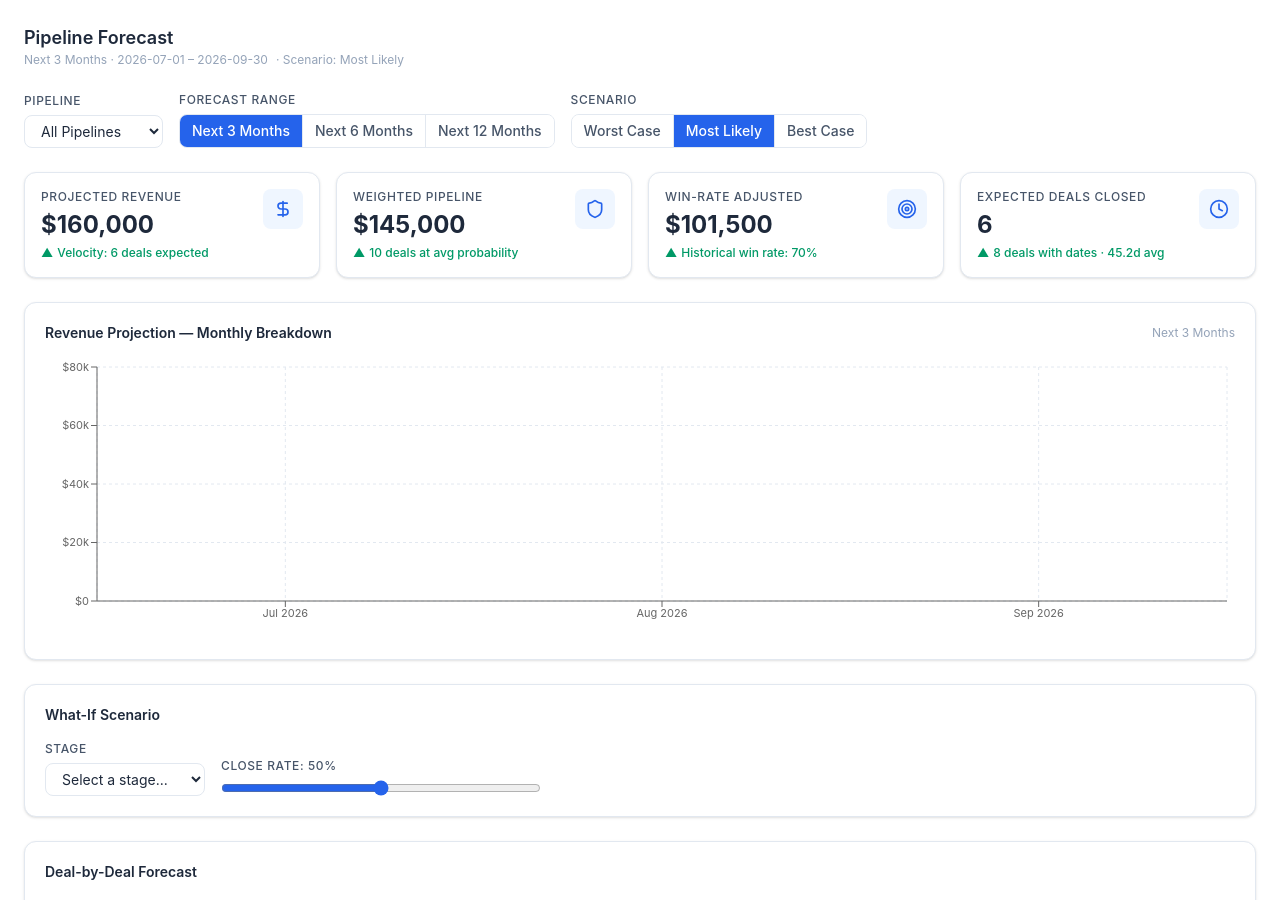
Scenario: ForecastPage what-if slider › shows what-if results when stage is selected and what_if data is provided
This screenshot has width=1280, height=900.
Select "Negotiation" in the dropdown showing "Select a stage..." next to "Close Rate:": (125, 780) [45,763,205,796]
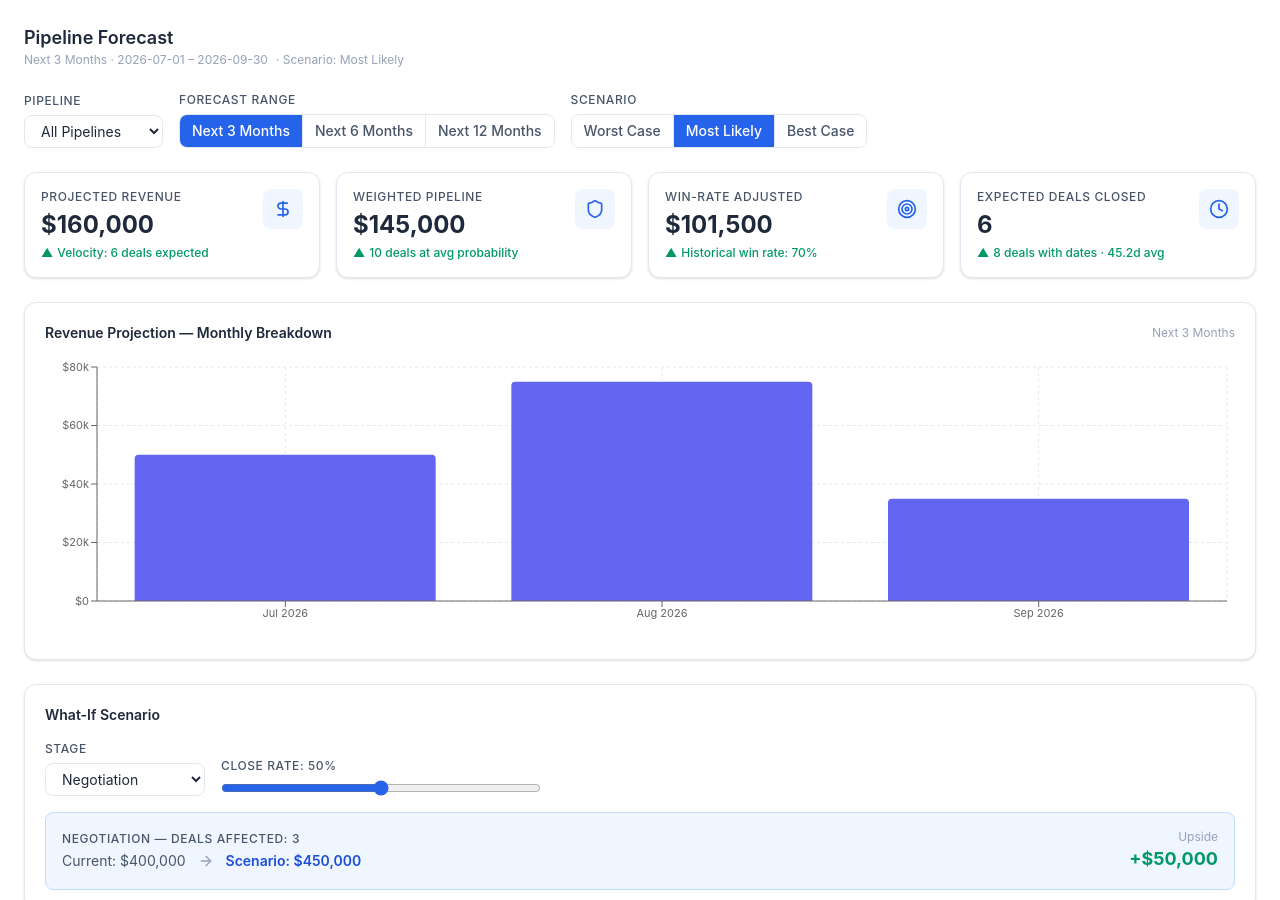
Expected: the text "Negotiation — Deals affected: 3" is shown, [62,831,300,846]
Expected: the text "Upside" is shown, [1178,829,1218,844]
